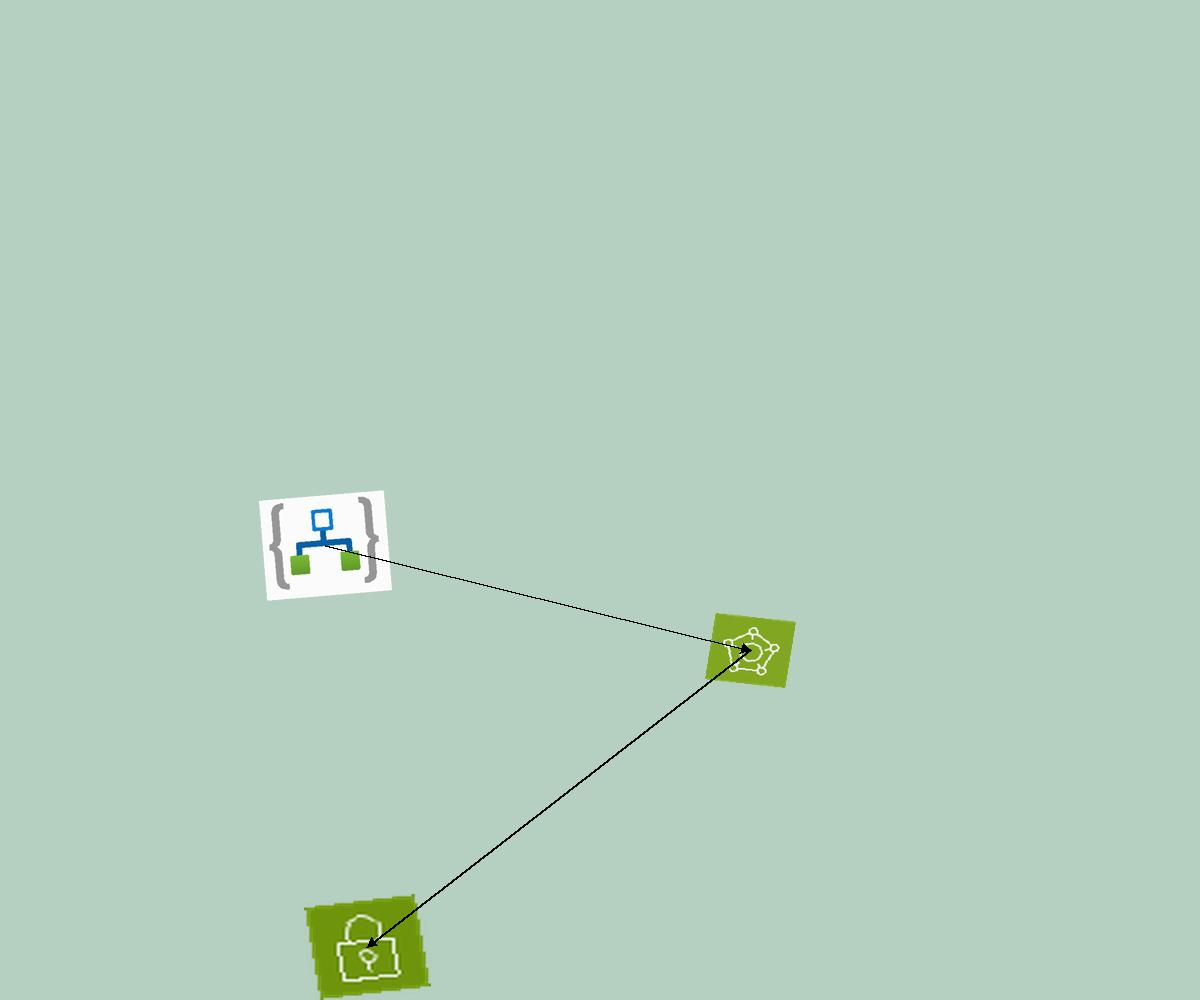AWS-Backup: (705, 613, 796, 688)
AWS-Public-subnet: (304, 894, 431, 1000)
Azure_integration-204-Logic-Apps: (259, 490, 392, 601)
